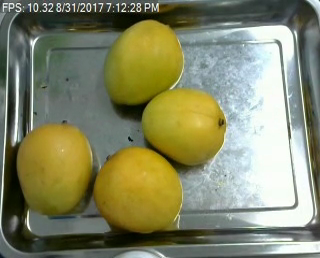Mango: (92, 143, 182, 236), (13, 117, 94, 215), (99, 18, 182, 107), (139, 87, 232, 164)
